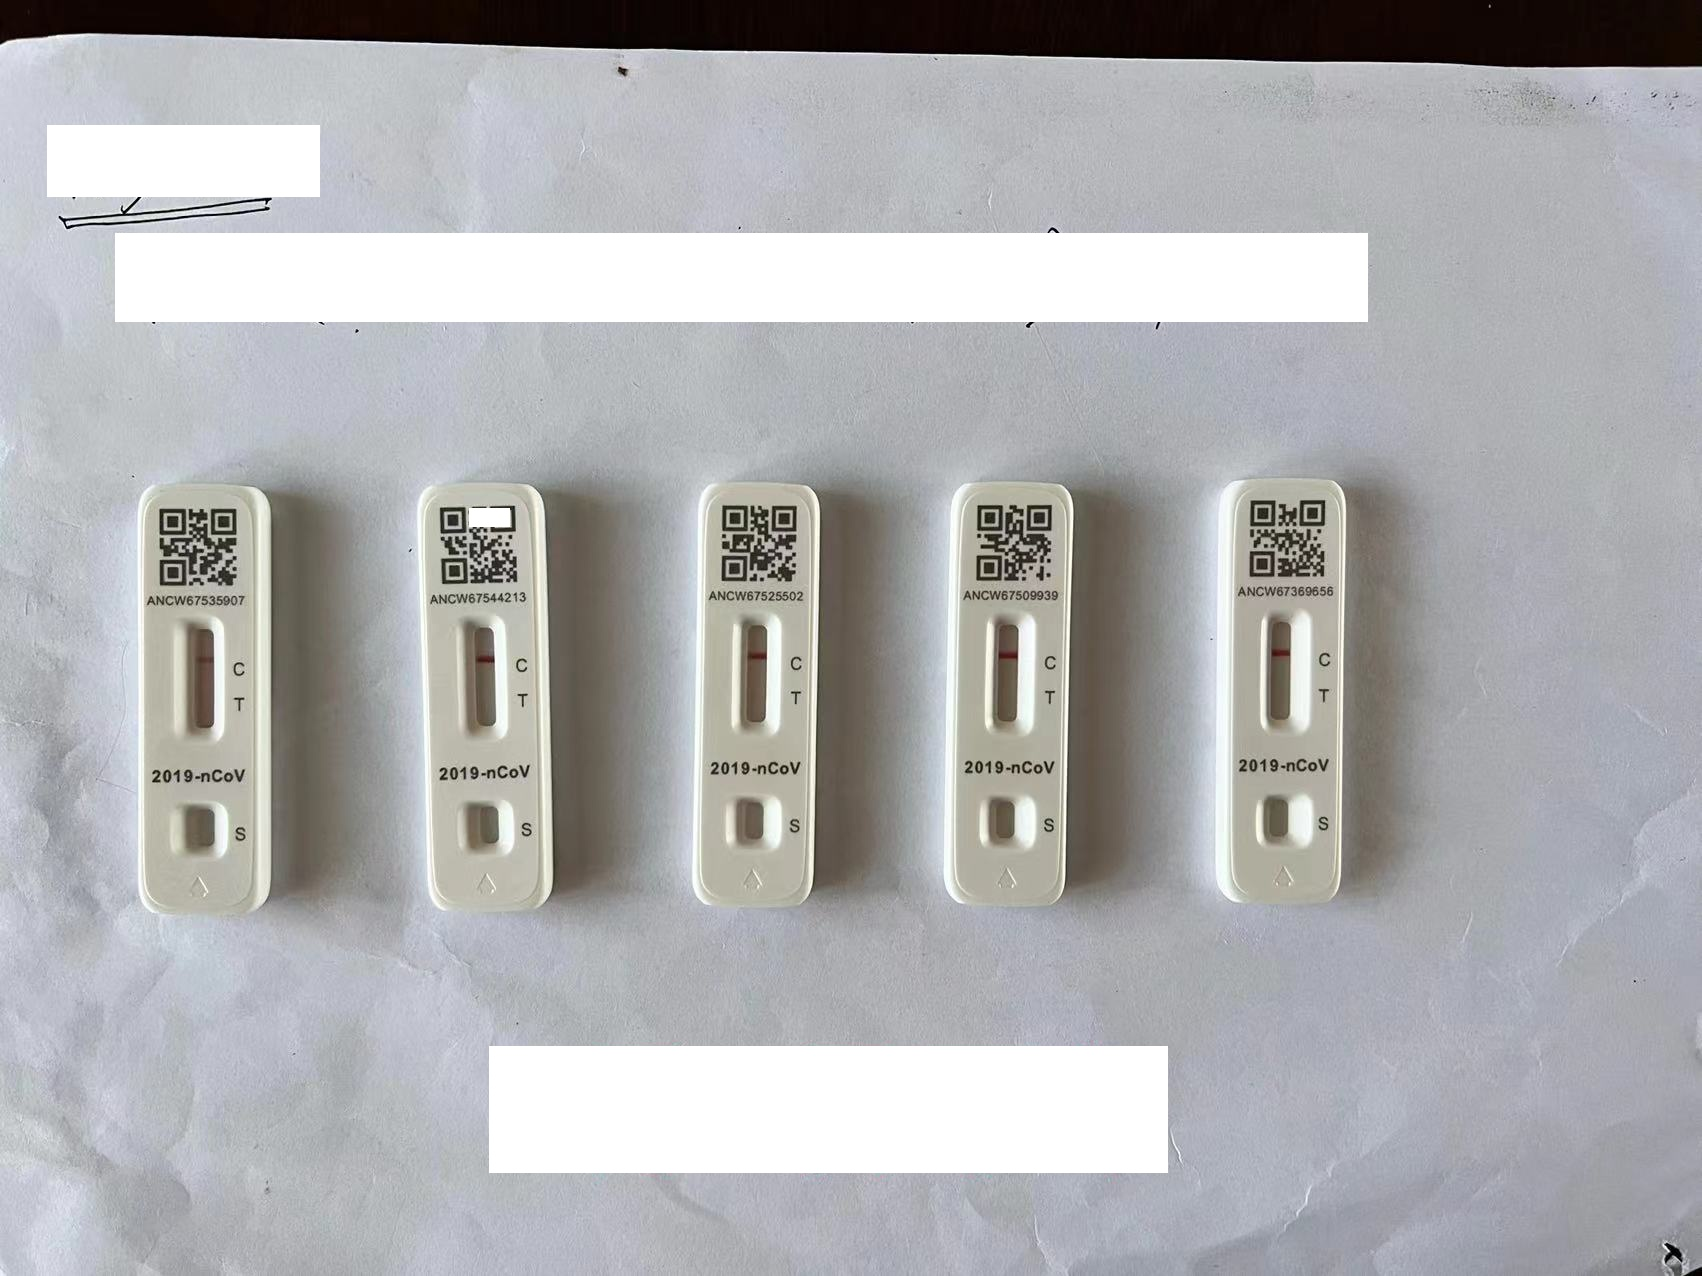negative: (458, 619, 500, 740), (989, 617, 1028, 736), (734, 617, 773, 735)
